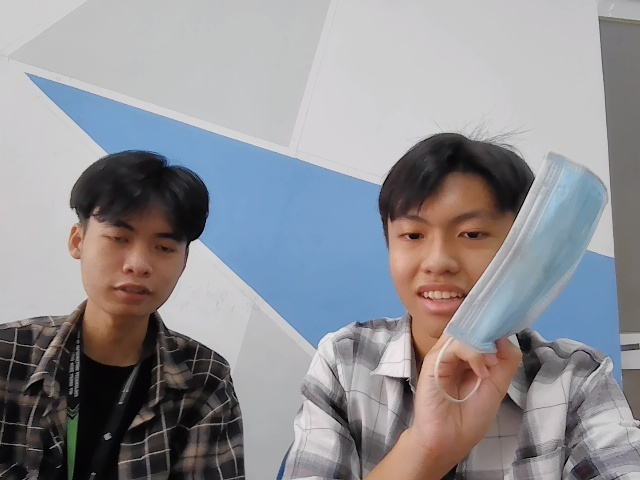human: (378, 128, 543, 338), (69, 145, 217, 324)
mask: (439, 141, 612, 378)
